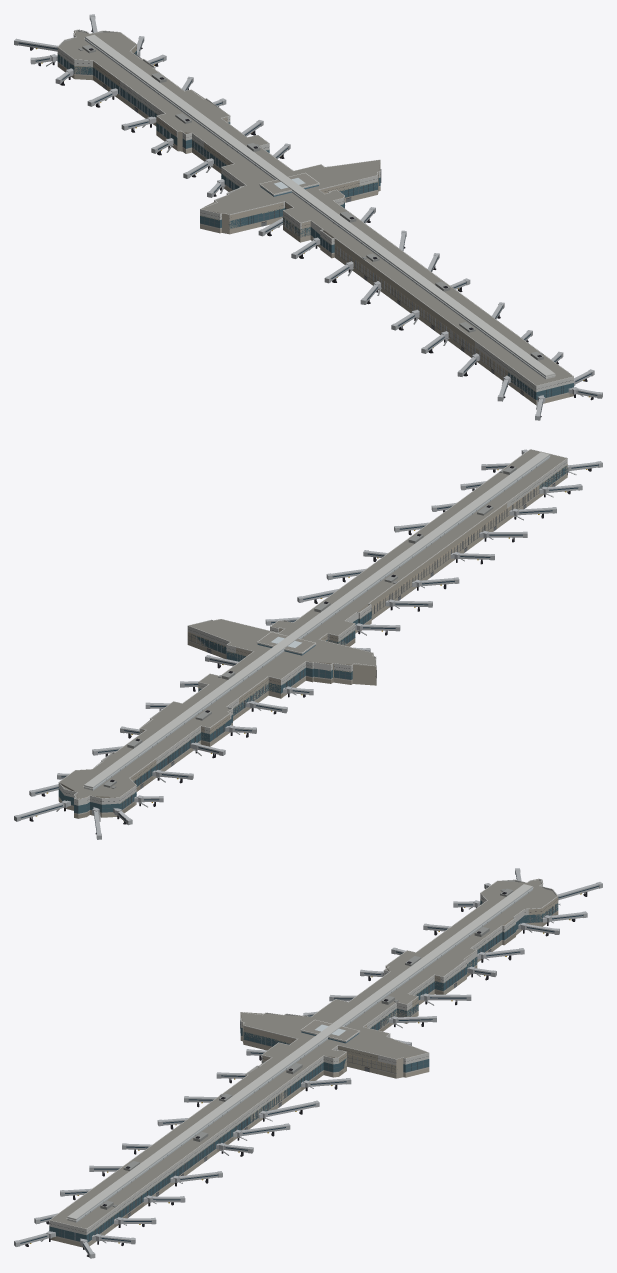
The model's file is atl-concourse-c.glb.
3 renders of one model, top to bottom at view 1: azimuth 30°, elevation 25°; view 2: azimuth 150°, elevation 25°; view 3: azimuth 330°, elevation 25°, orthographic.
Visible parts, largest first — view 1: lod2_lm_stone, lod0_lm_metal, lod1_lm_stone, lod2_bld_wall, lod0_bld_glass, lod0_bld_wall, lod2_lm_lit, lod1_lm_lit, lod1_bld_glass, lod0_lm_glass; view 2: lod2_lm_stone, lod0_lm_metal, lod1_lm_stone, lod2_bld_wall, lod0_bld_glass, lod0_lm_glass, lod2_lm_lit, lod0_bld_wall, lod1_lm_lit, lod1_bld_glass; view 3: lod2_lm_stone, lod0_lm_metal, lod1_lm_stone, lod0_bld_glass, lod2_bld_wall, lod2_lm_lit, lod0_lm_glass, lod1_bld_glass, lod0_bld_wall, lod1_bld_wall.
Part boxes in pixels (<box>): lod2_lm_stone: <box>58,31,572,385</box>; lod0_lm_metal: <box>14,14,602,420</box>; lod1_lm_stone: <box>15,16,602,415</box>; lod2_bld_wall: <box>58,31,536,402</box>; lod0_bld_glass: <box>57,51,573,399</box>; lod0_bld_wall: <box>57,63,573,404</box>; lod2_lm_lit: <box>85,37,545,377</box>; lod1_lm_lit: <box>85,39,545,378</box>; lod1_bld_glass: <box>93,72,320,239</box>; lod0_lm_glass: <box>18,19,597,412</box>; lod2_lm_stone: <box>59,449,566,799</box>; lod0_lm_metal: <box>14,449,602,839</box>; lod1_lm_stone: <box>18,449,602,835</box>; lod2_bld_wall: <box>60,462,567,799</box>; lod0_bld_glass: <box>58,466,567,812</box>; lod0_lm_glass: <box>20,464,598,832</box>; lod2_lm_lit: <box>93,455,549,788</box>; lod0_bld_wall: <box>58,474,567,817</box>; lod1_lm_lit: <box>93,457,549,790</box>; lod1_bld_glass: <box>64,619,358,813</box>; lod2_lm_stone: <box>50,879,557,1228</box>; lod0_lm_metal: <box>14,868,602,1258</box>; lod1_lm_stone: <box>15,868,598,1257</box>; lod0_bld_glass: <box>49,900,558,1241</box>; lod2_bld_wall: <box>56,893,558,1236</box>; lod2_lm_lit: <box>76,887,532,1222</box>; lod0_lm_glass: <box>20,872,598,1253</box>; lod1_bld_glass: <box>243,903,558,1122</box>; lod0_bld_wall: <box>50,912,558,1247</box>; lod1_bld_wall: <box>244,912,558,1127</box>.
Size of the model in its own units: 141 by 16.71 by 682.
